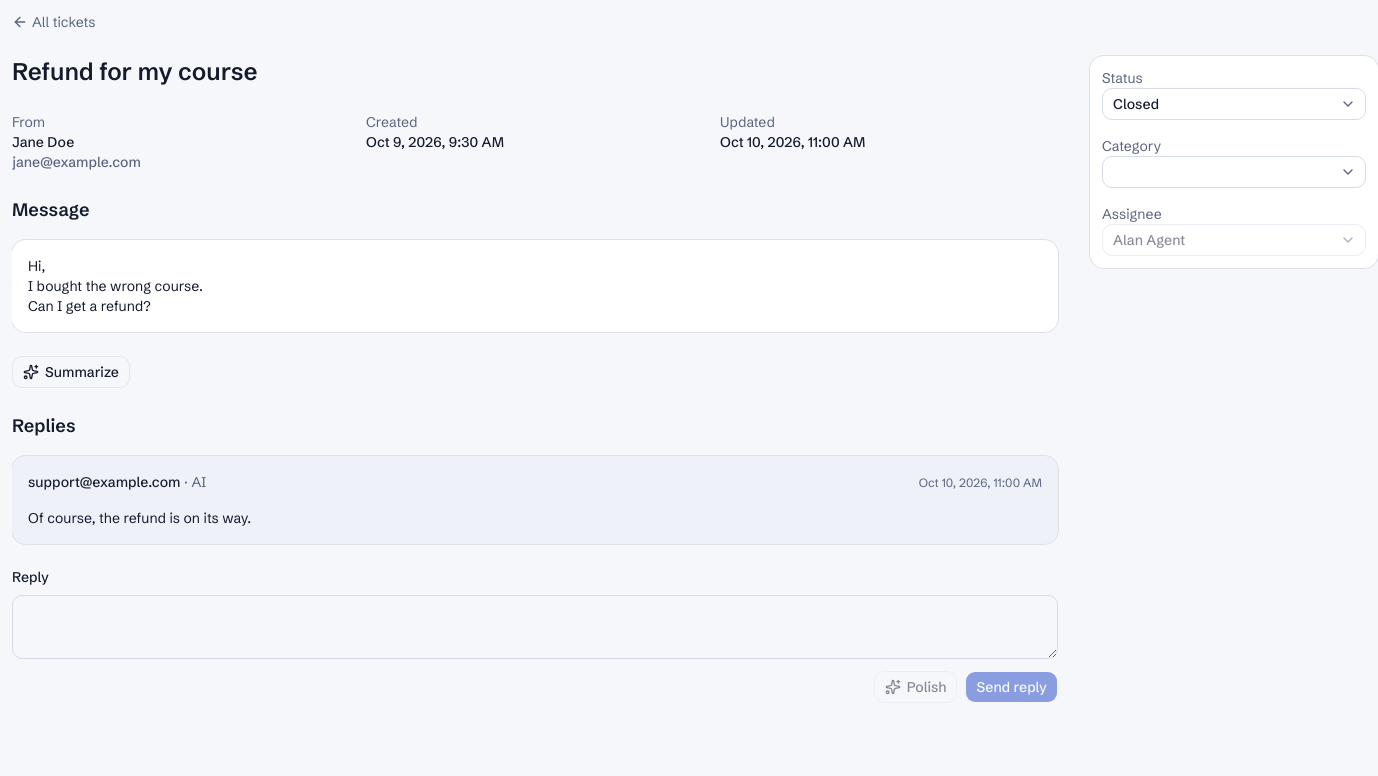
TicketDetailPage › shows the new summary after Summarize is clicked, below the message
The width and height of the screenshot is (1378, 776).
Click the button "Summarize". click: point(71, 372)
box: [12, 356, 130, 388]
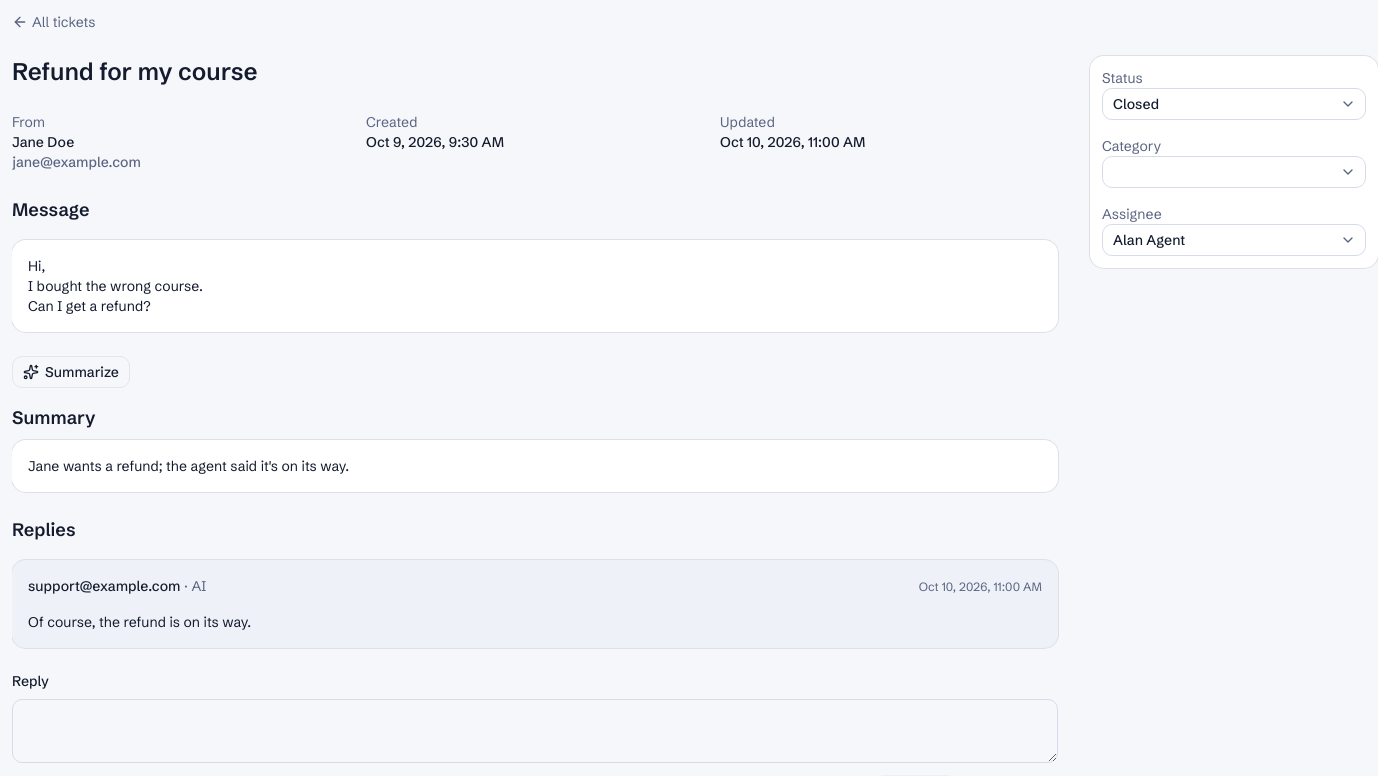
Now the element "Summary" shows "Jane wants a refund; the agent said it's on its way.", box [28, 457, 349, 475]
